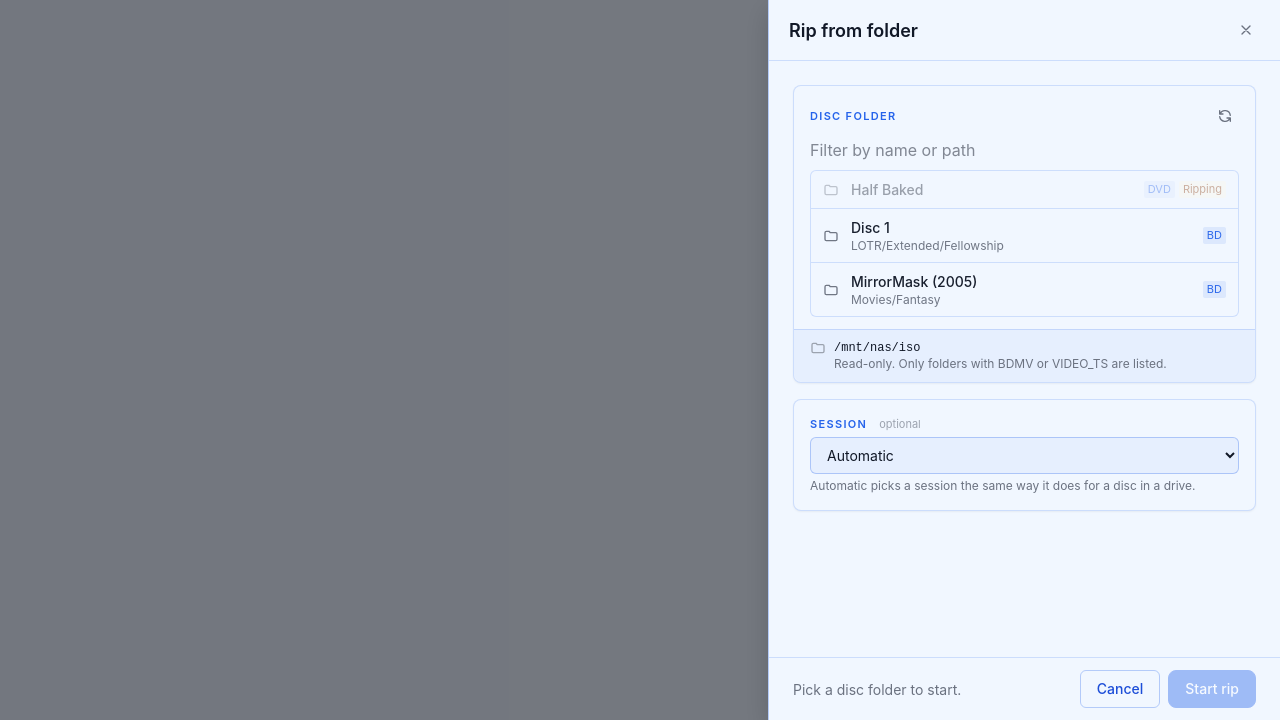
Test: IsoPicker in folder mode › filters on any part of the path
expect the text "Disc 1" is shown: met, box 851,219 -> 890,236
Type "fellow" into the search field named "Filter folders" at (1024, 150), box 810,138 -> 1239,162
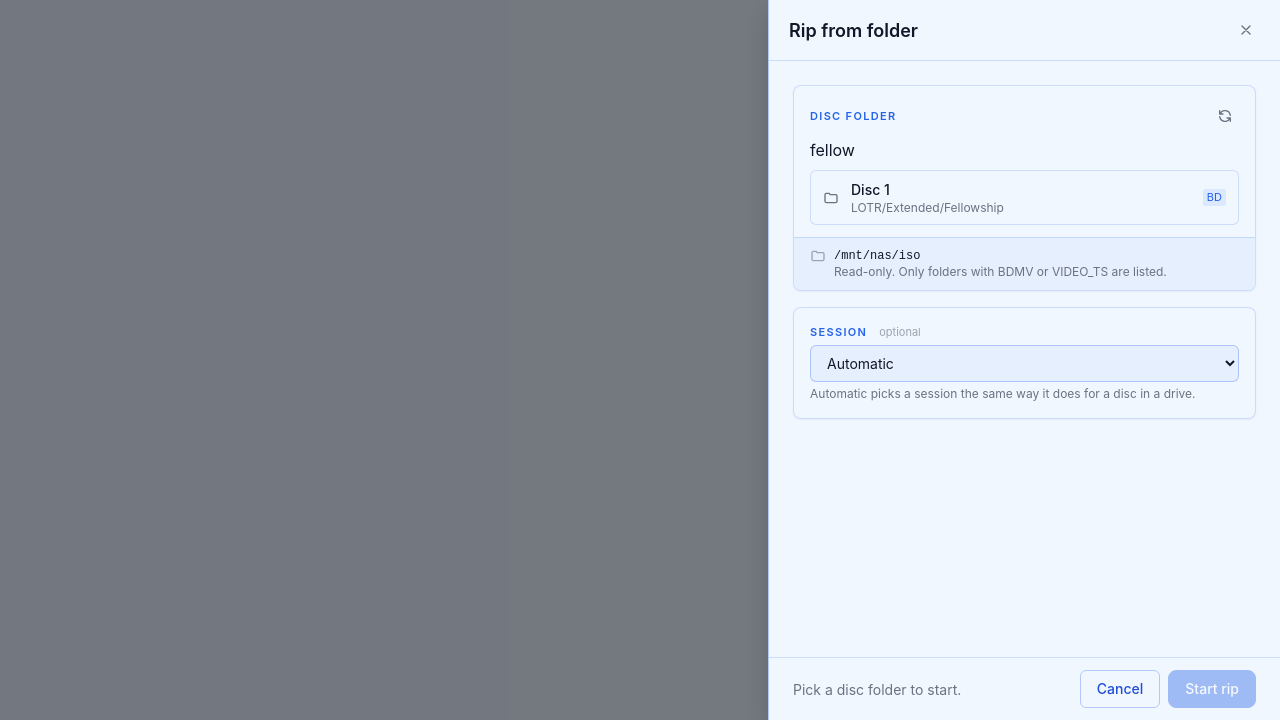
expect the text "Disc 1" is shown: met, box 851,181 -> 890,198
expect the option "MirrorMask (2005)" is gone: met
